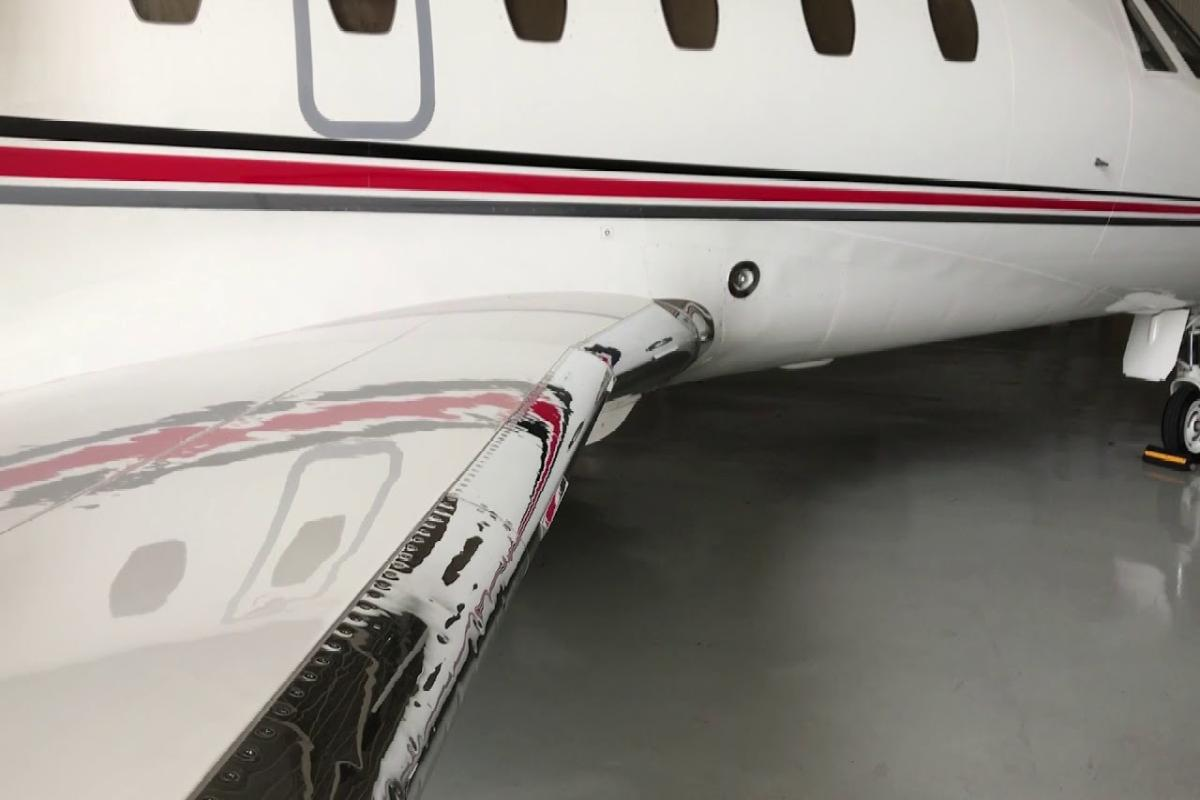Fuselage_damage: (184, 473, 493, 798)
